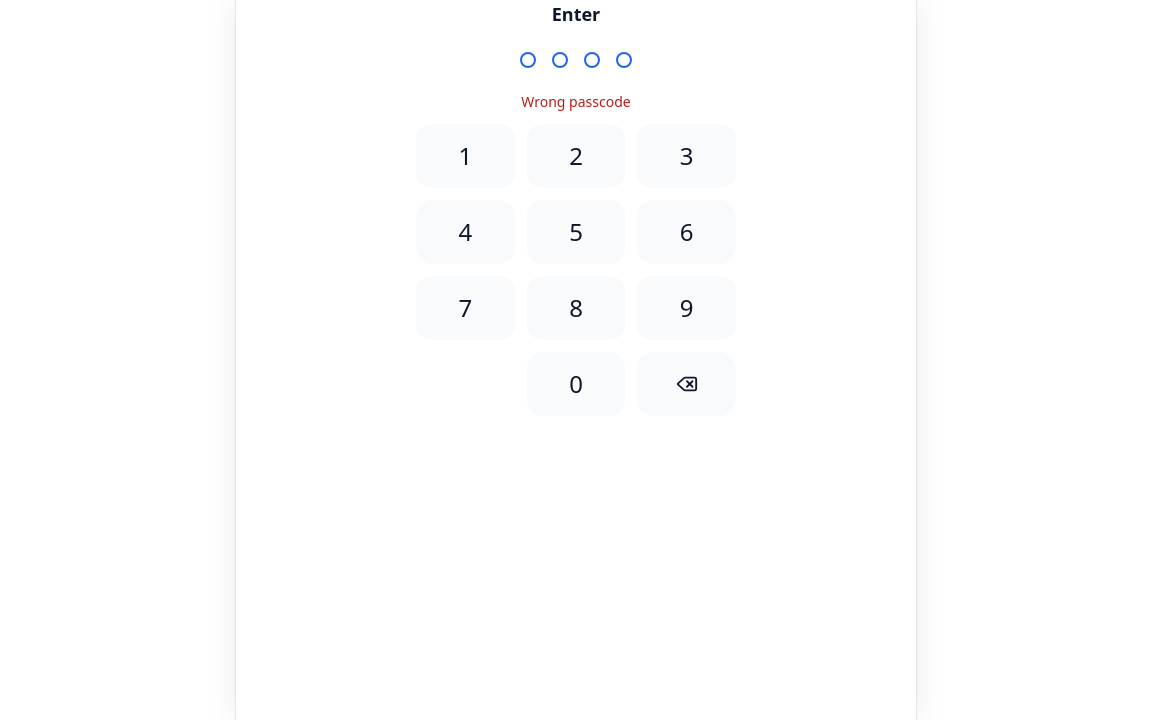
PinPad › Delete শেষ অঙ্ক মোছে; error ফাঁকা-ইনপুটে দেখায়
Expected: the message "Wrong passcode" is shown, [521, 92, 631, 112]
Click the button "5".
click(576, 232)  # box [527, 200, 625, 264]
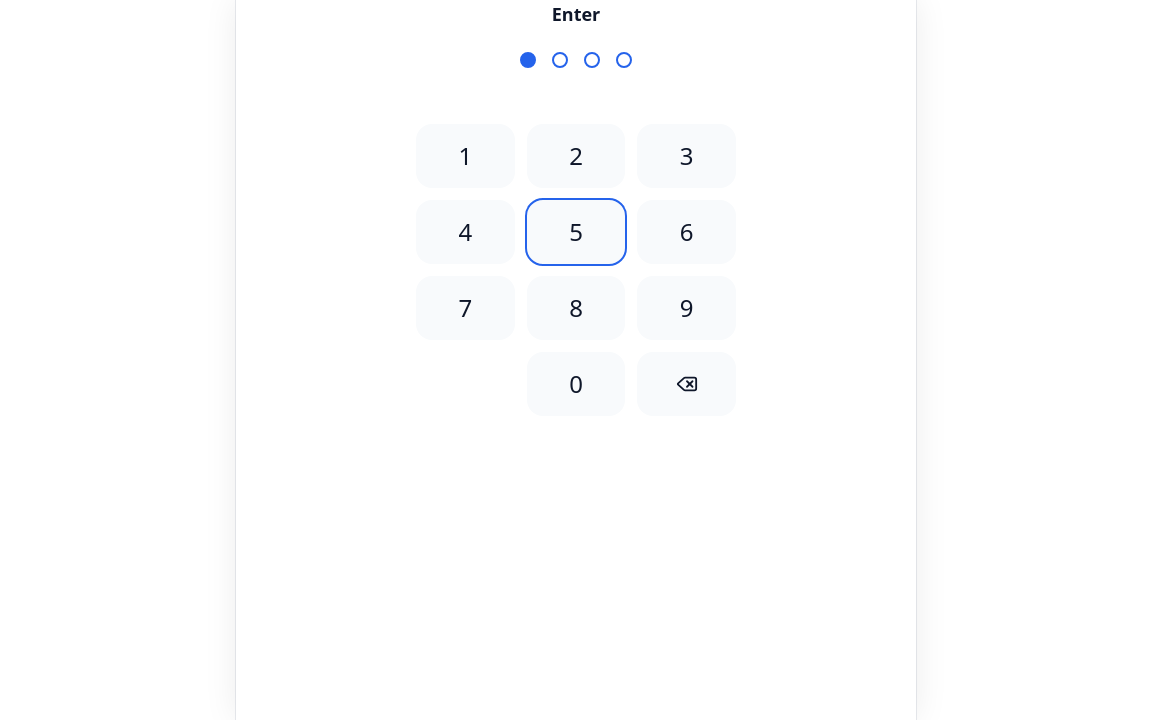
Click the button named "Delete".
click(687, 384)  # box [637, 352, 736, 416]
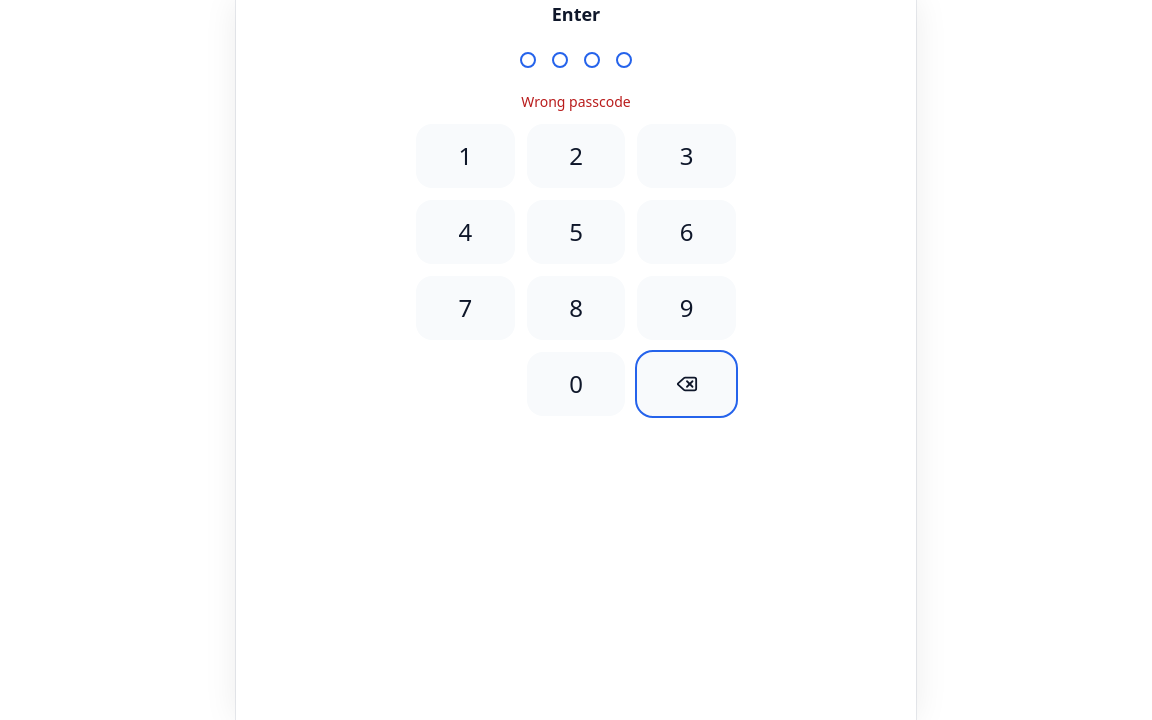
Now the message "Wrong passcode" is shown, box [521, 92, 631, 112]
